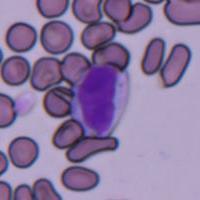M: (73, 64, 130, 136)
